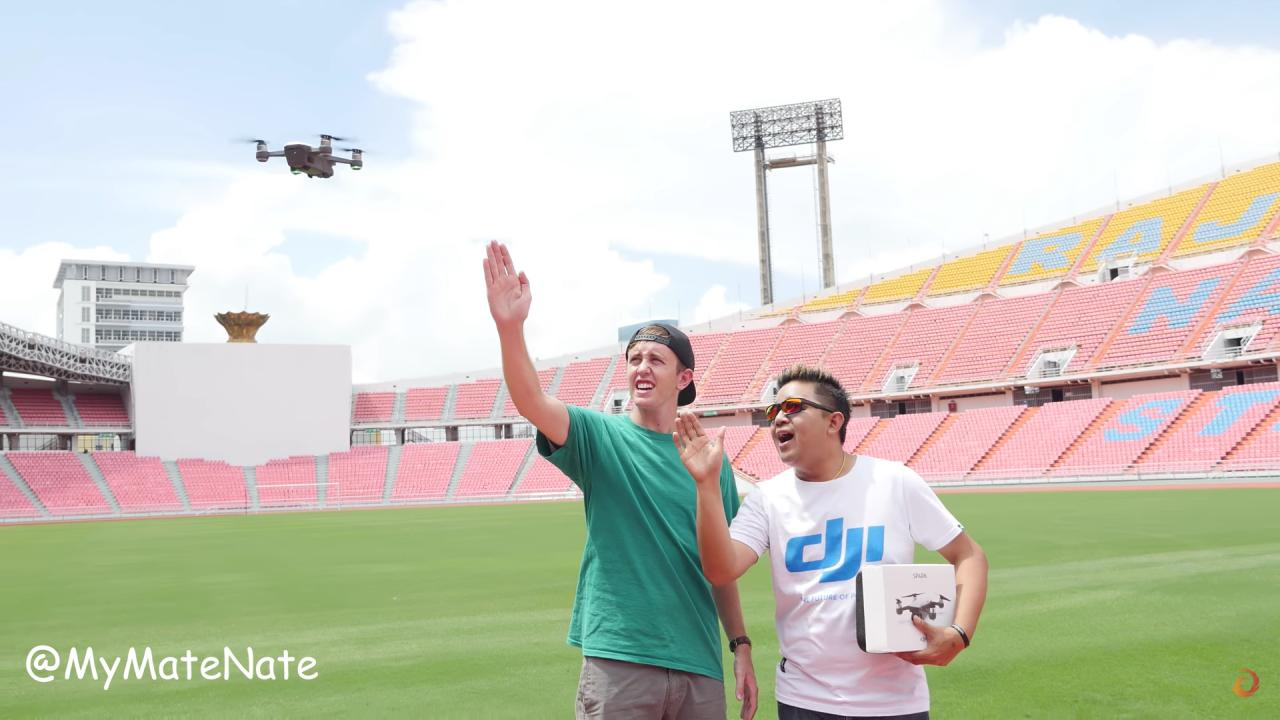Drone: (223, 107, 384, 202)
